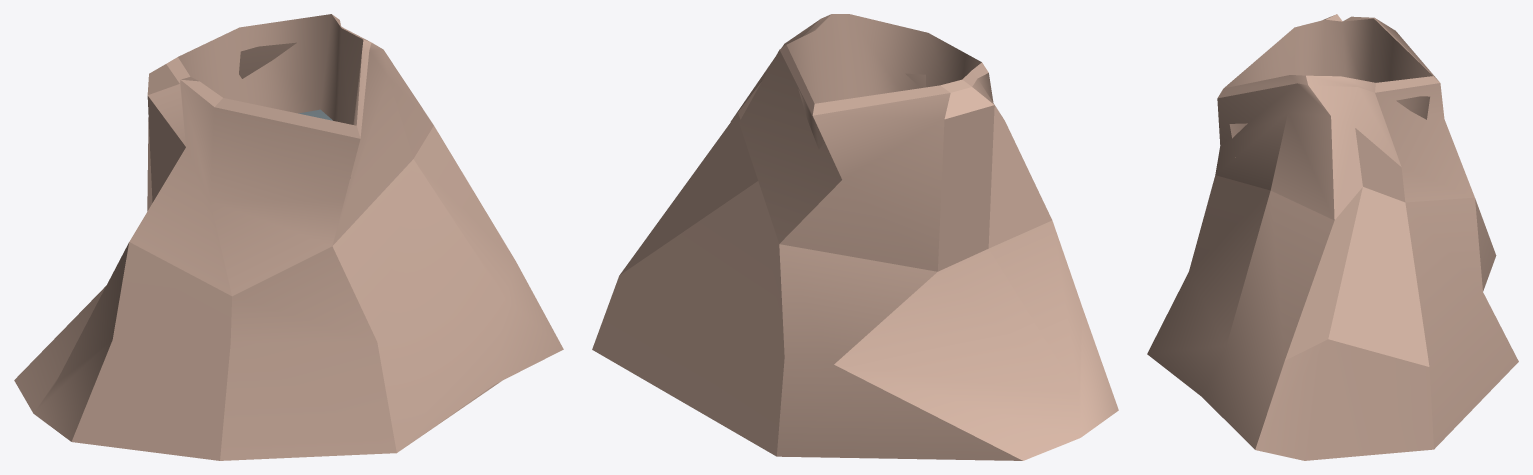
The model's file is couleLave.fbx.
3 renders of one model, left to right at view 1: azimuth 30°, elevation 25°; view 2: azimuth 150°, elevation 25°; view 3: azimuth 270°, elevation 25°, orthographic. The views are drawn at different scales.
Visible parts, largest first — view 1: couleLave; view 2: couleLave; view 3: couleLave.
Part boxes in pixels (<box>): couleLave: <box>14,14,563,460</box>; couleLave: <box>592,14,1118,460</box>; couleLave: <box>1147,14,1518,460</box>.
Bounding box in the file's own units: 76.01 × 54.39 × 58.48.
